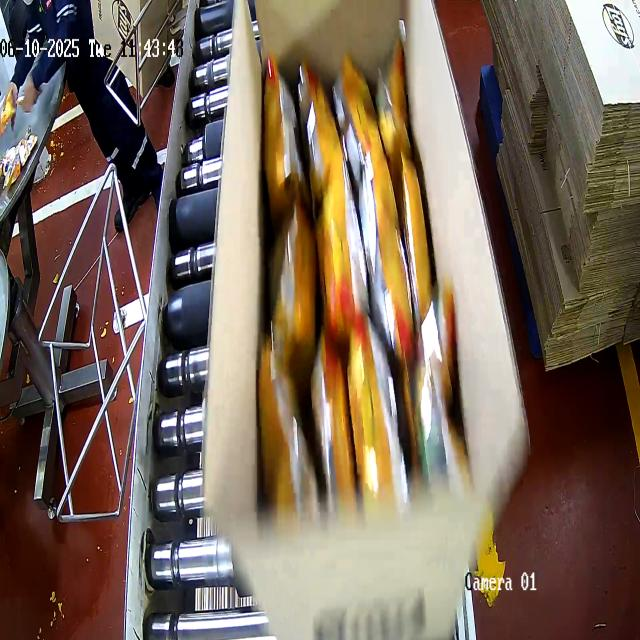FRENCH_CHEESE: (253, 56, 470, 502)
